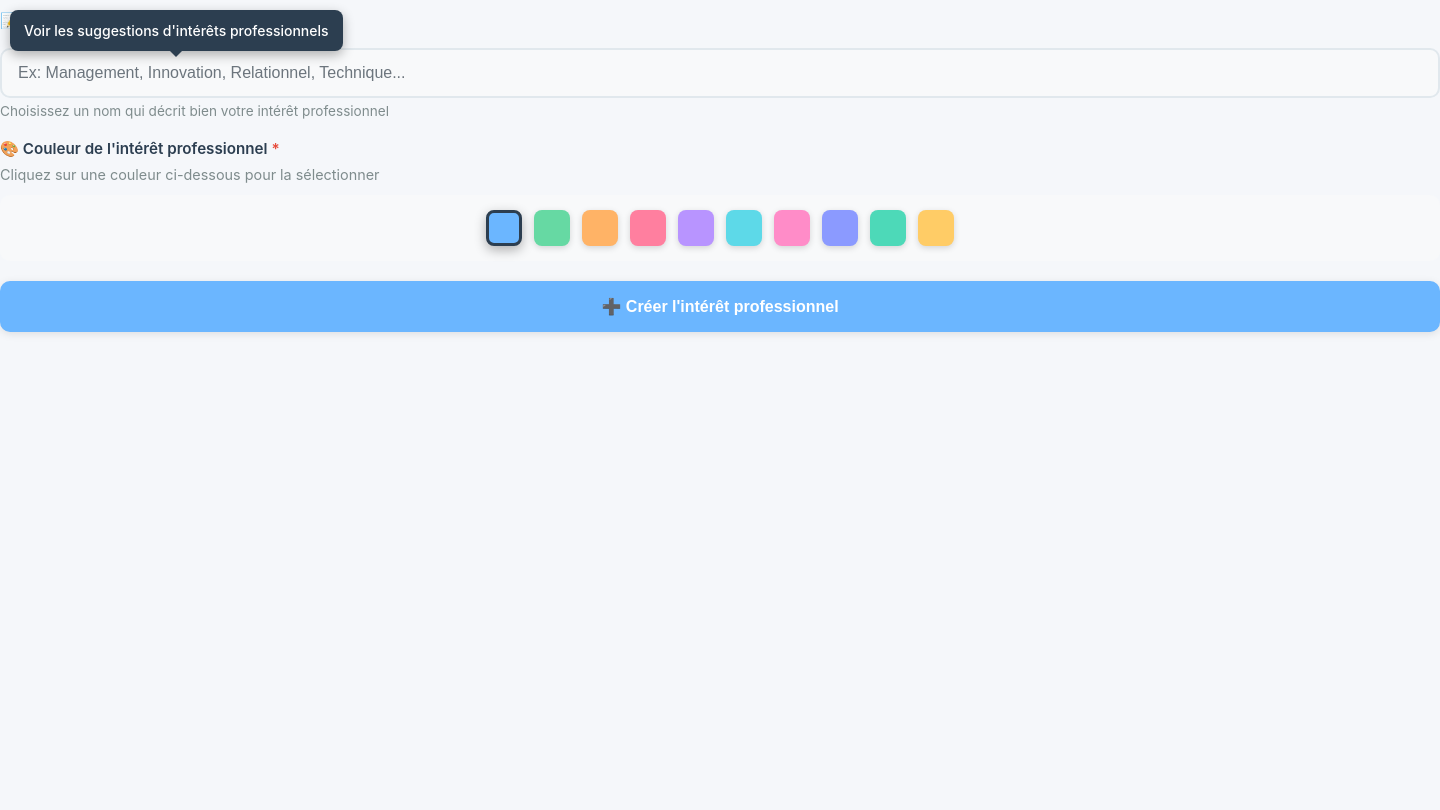
CategoryForm › should fill name input when suggestion is selected
What coordinates should you click on to do the following:
click the button named "voir les suggestions"
I would click on:
 (284, 20)
Its box is 264,0 -> 304,40.
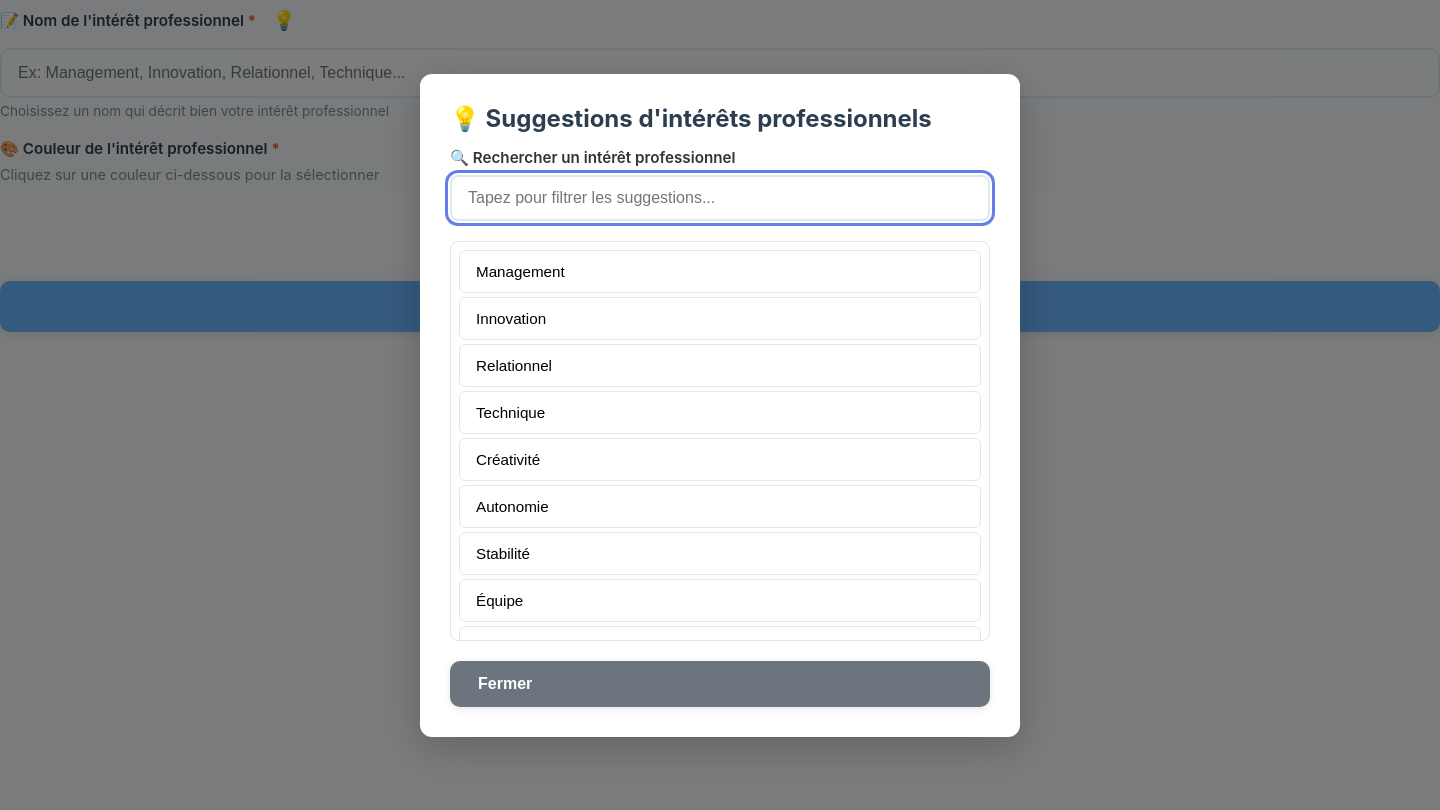
Check: the heading "💡 Suggestions d'intérêts professionnels" is shown, box 450,104 -> 990,132
Note: Click on first suggestion
What coordinates should you click on to do the following:
click the button "Management"
I would click on:
 (520, 271)
Its box is 459,250 -> 981,292.
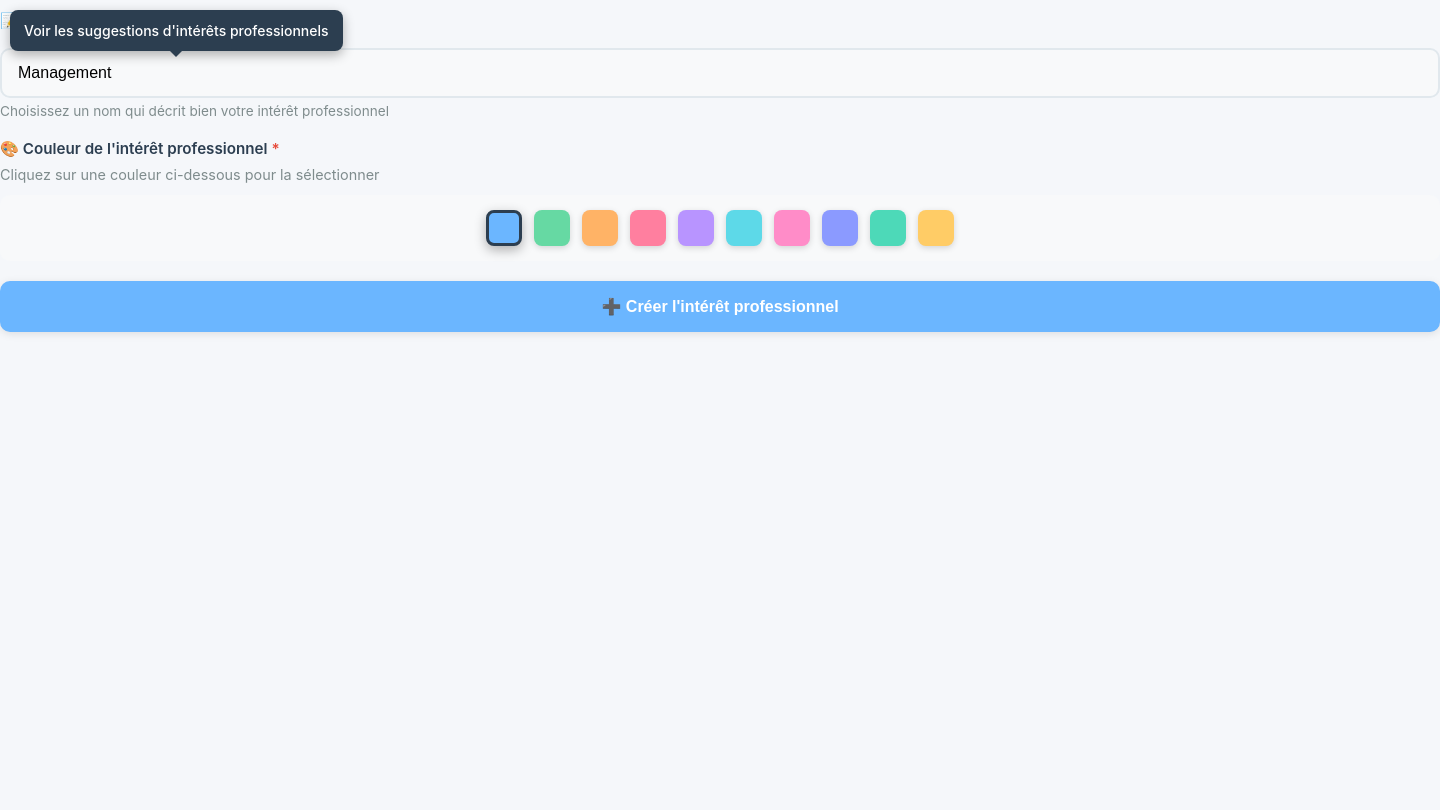
Check: the heading "💡 Suggestions d'intérêts professionnels" is gone
Check: the field labelled "📝 Nom de l'intérêt professionnel * 💡" holds "Management", box 0,48 -> 1439,98
